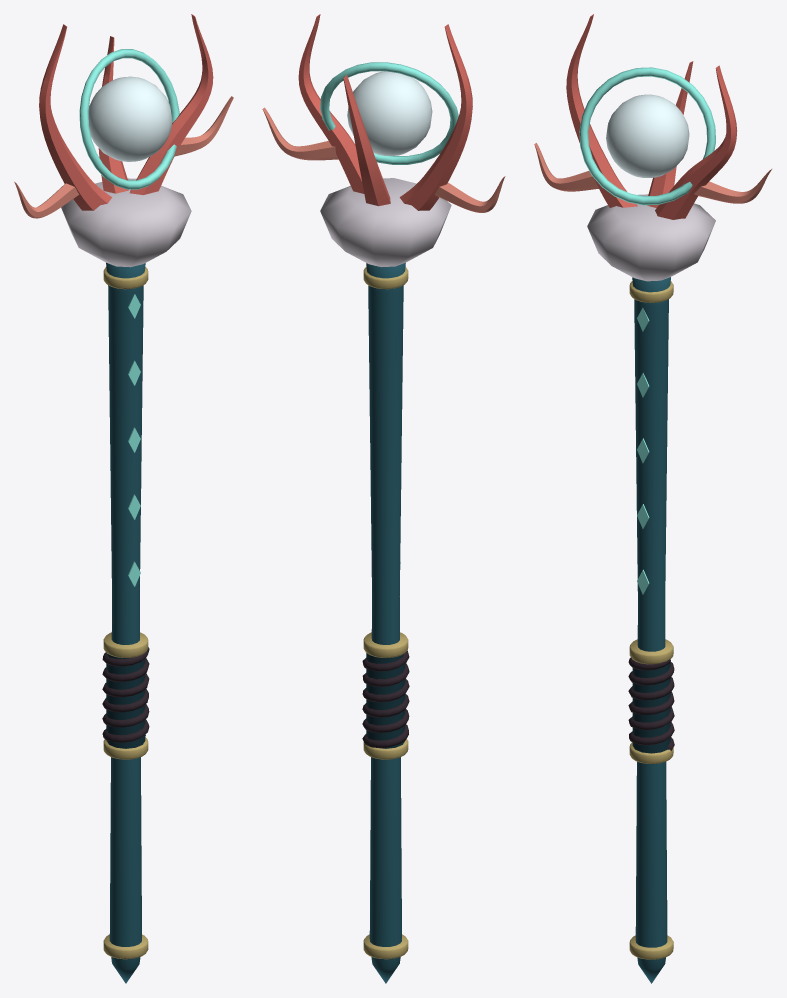
Rendered from staff_coral.fbx.
The picture shows the model from 3 angles, left to right: view 1: azimuth 30°, elevation 25°; view 2: azimuth 150°, elevation 25°; view 3: azimuth 330°, elevation 25°; orthographic projection. The views are drawn at different scales.
Visible parts, largest first — view 1: staff_coral; view 2: staff_coral; view 3: staff_coral.
Part boxes in pixels (<box>): staff_coral: <box>14,14,233,983</box>; staff_coral: <box>262,14,505,983</box>; staff_coral: <box>534,14,772,983</box>.
Size of the model in its own units: 0.3405 by 1.38 by 0.1617.
